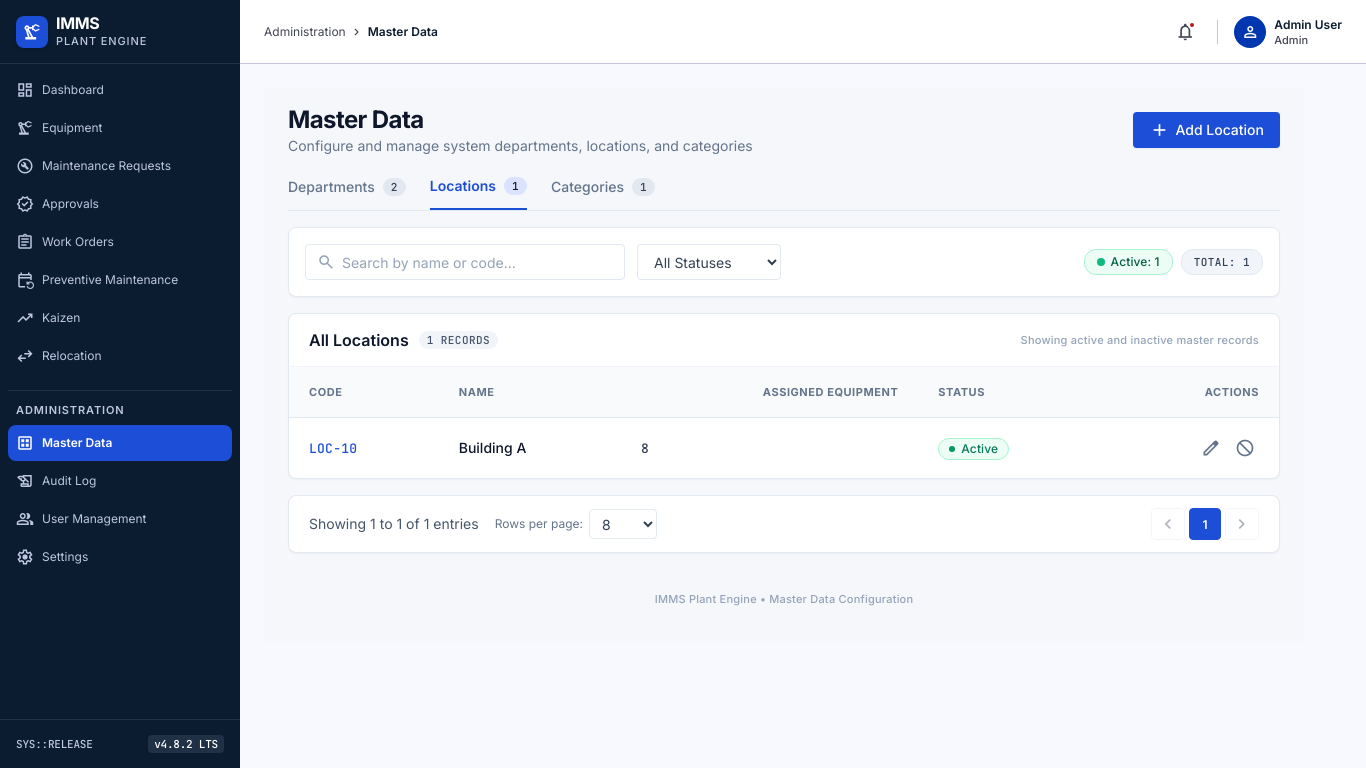
MasterDataPage › displays conflict error when location deactivation is blocked
Expected: the text "Building A" is shown, [459,439,526,456]
# Click deactivate action button
Step 1. Click the button named "Deactivate Building A" → {"x": 1245, "y": 448}, box [1231,434,1259,462]
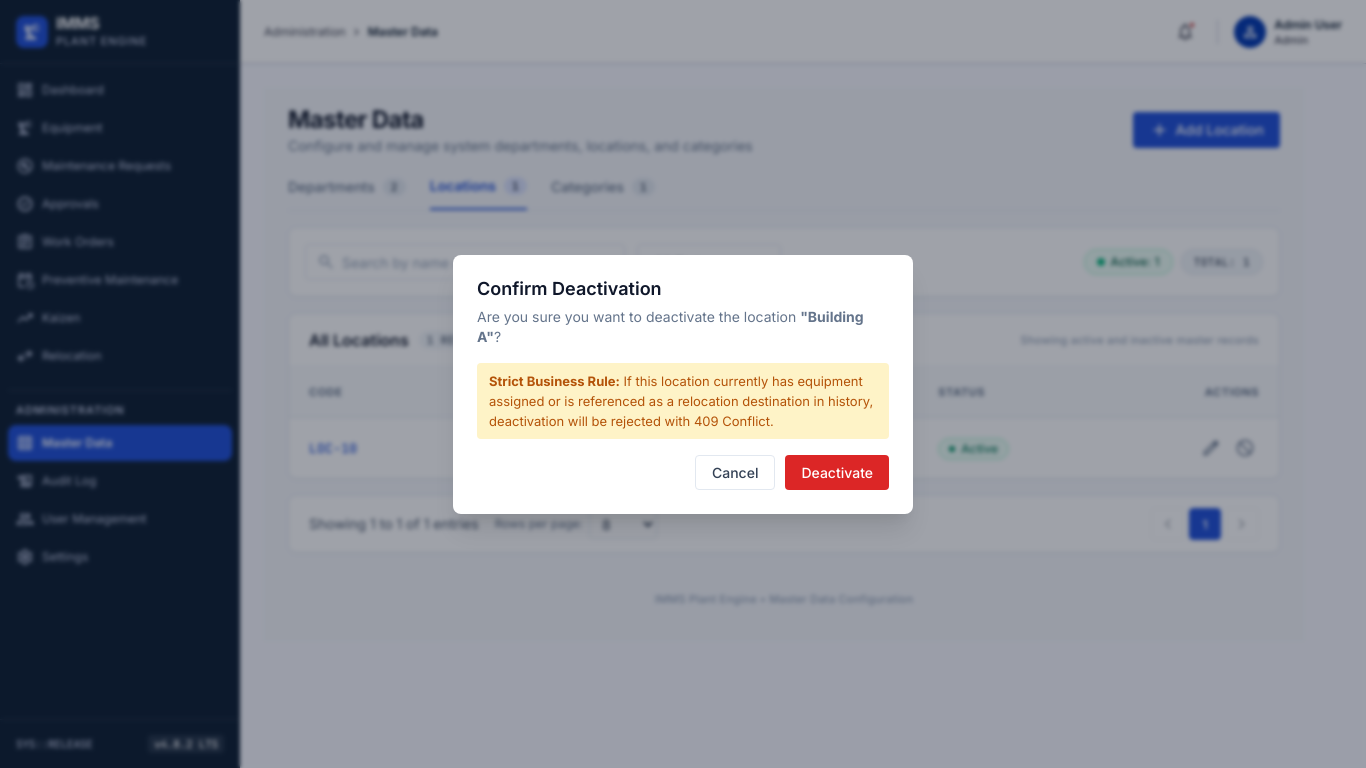
Expected: the heading "Confirm Deactivation" is shown, [477,278,662,298]
Step 2. Click the button "Deactivate" → {"x": 837, "y": 472}, box [786,454,889,490]
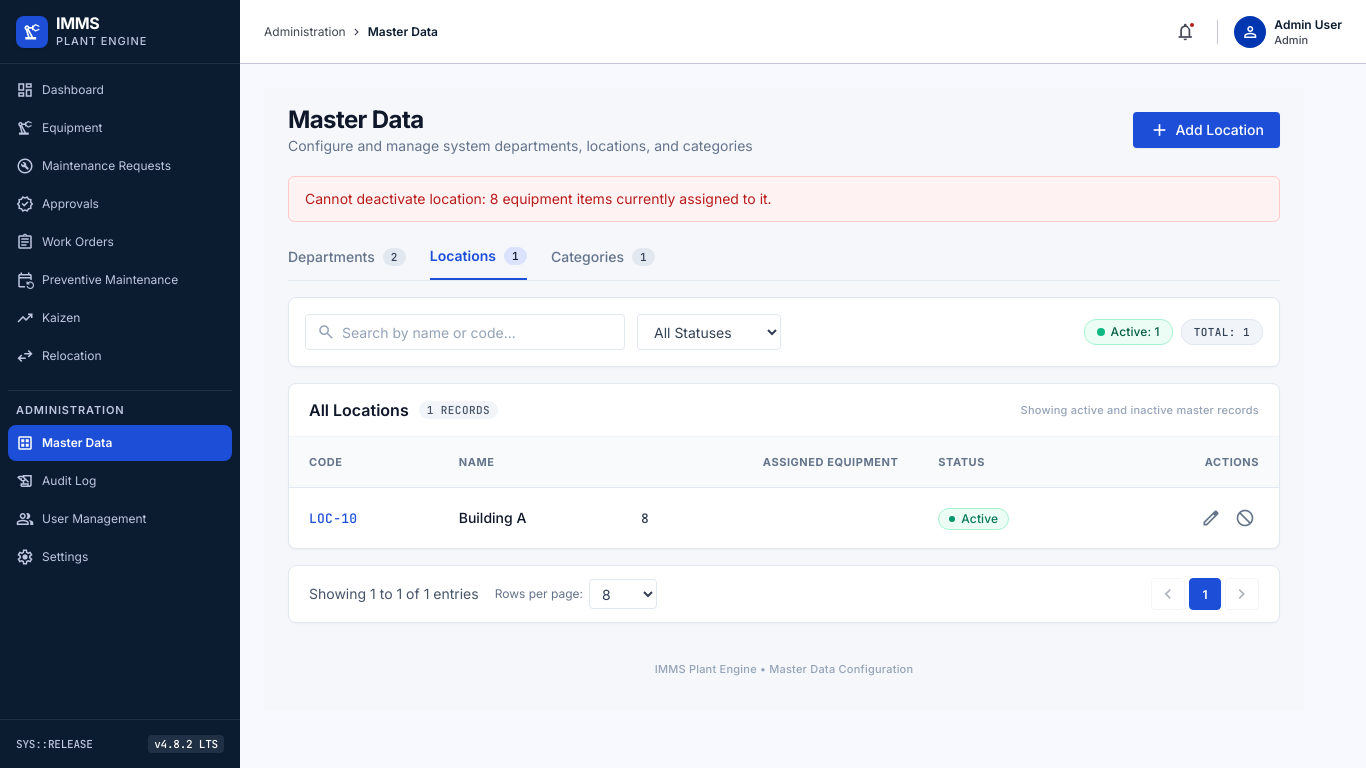
Expected: the text "Cannot deactivate location: 8 equipment items currently assigned to it." is shown, [288,176,1280,222]
